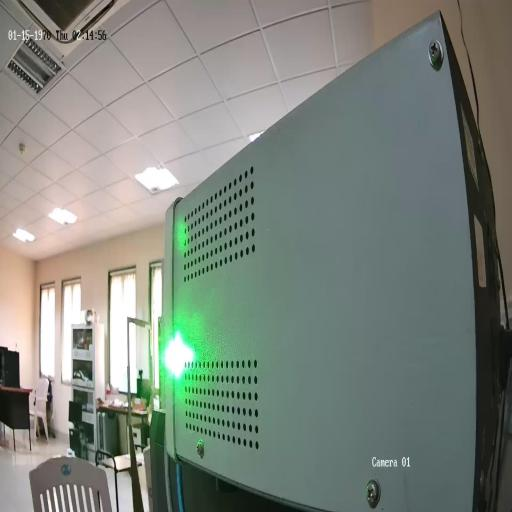laser: (163, 326, 196, 386)
